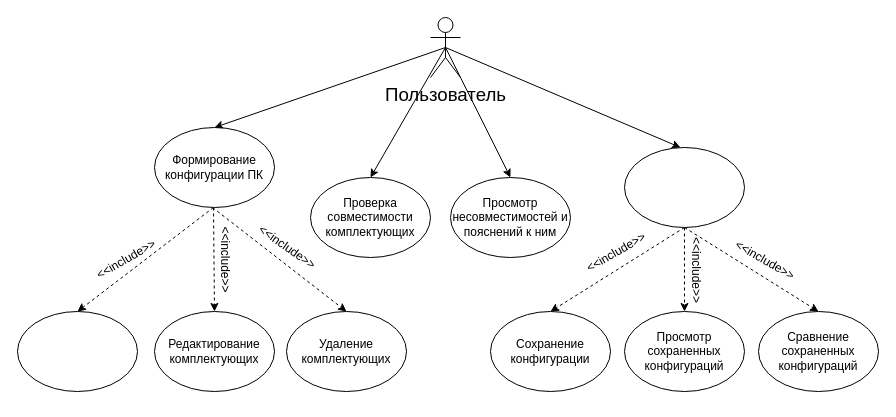
Image size: 896x417. Some labels were removed from this diagram. Each missing label, with the centre of its shape:
Добавление комплектующих: the point at 77,351
Просмотр информации о сборке: the point at 684,187
